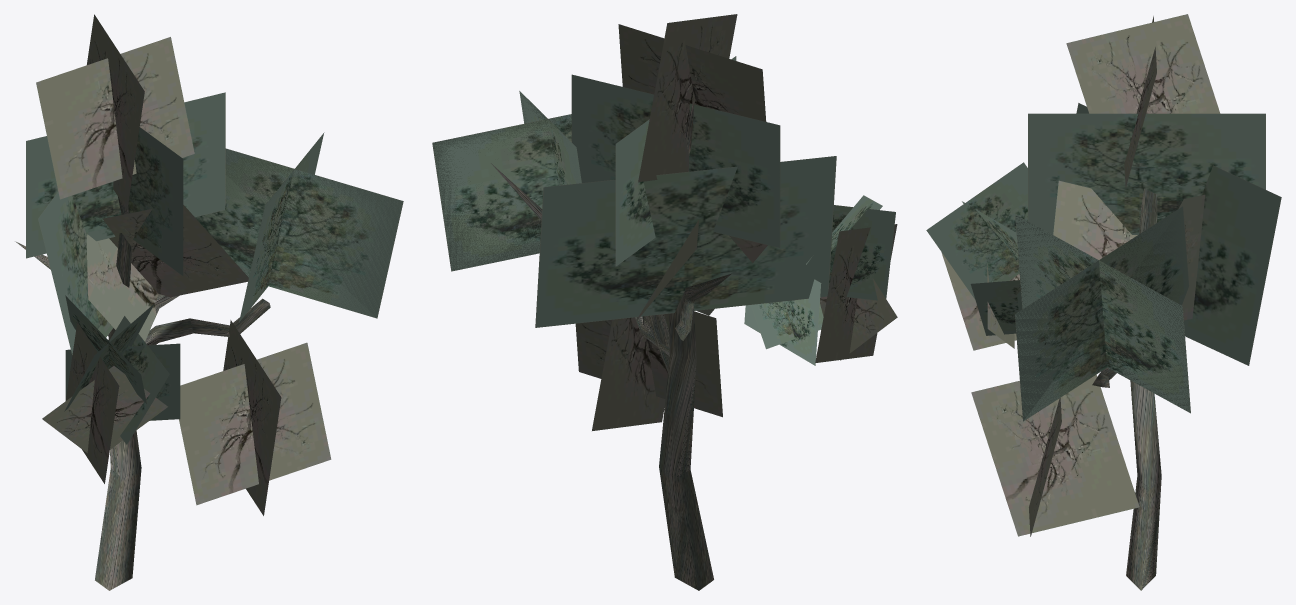
Rendered from ever_torreypinetree_l2.fbx.
3 views of the same model, side by side, from view 1: azimuth 30°, elevation 25°; view 2: azimuth 150°, elevation 25°; view 3: azimuth 270°, elevation 25° (orthographic). The views are drawn at different scales.
Visible parts, largest first — view 1: mesh_node; view 2: mesh_node; view 3: mesh_node.
Boxes of the visible parts, x1=… form: mesh_node: x1=15, y1=14, x2=403, y2=590; mesh_node: x1=432, y1=14, x2=897, y2=590; mesh_node: x1=926, y1=14, x2=1281, y2=590.
Size of the model in its own units: 6.38 by 9.23 by 5.23.
